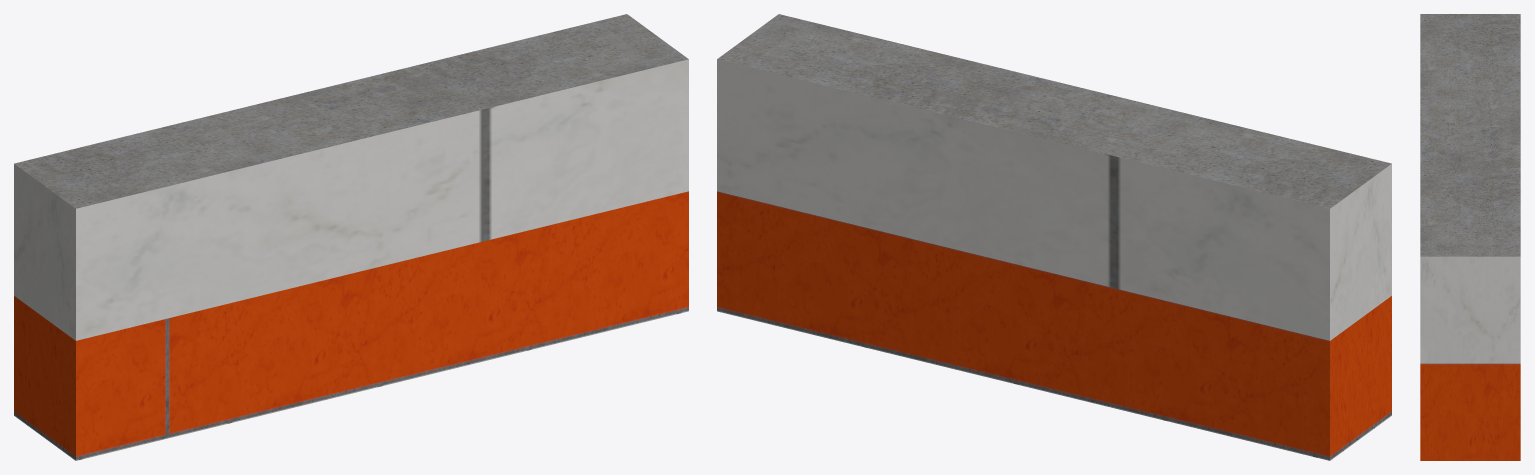
The model's file is WallUpperPart_5.fbx.
3 renders of one model, left to right at view 1: azimuth 30°, elevation 25°; view 2: azimuth 150°, elevation 25°; view 3: azimuth 270°, elevation 25°, orthographic. The views are drawn at different scales.
Visible parts, largest first — view 1: WallUpperPart_5; view 2: WallUpperPart_5; view 3: WallUpperPart_5.
Part boxes in pixels (bbox=[...]): WallUpperPart_5: bbox=[14, 14, 688, 460]; WallUpperPart_5: bbox=[717, 14, 1391, 460]; WallUpperPart_5: bbox=[1420, 14, 1520, 460].
Size of the model in its own units: 1 by 0.3937 by 0.175.
